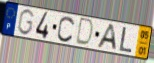4: (34, 11, 50, 41)
A: (95, 23, 118, 52)
C: (56, 15, 76, 44)
D: (74, 17, 95, 48)
G: (16, 8, 36, 37)
L: (119, 26, 134, 54)
